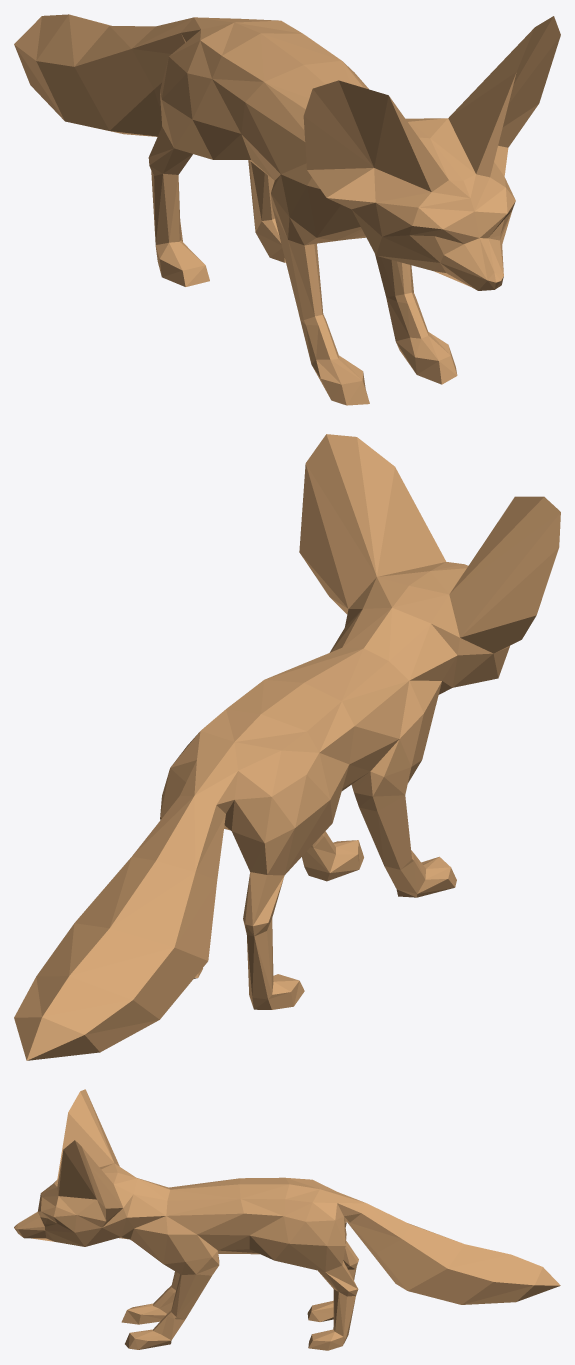
File: veryperfectfoxcolourdae.dae
The picture shows the model from 3 angles, top to bottom: view 1: azimuth 30°, elevation 25°; view 2: azimuth 150°, elevation 25°; view 3: azimuth 270°, elevation 25°; orthographic projection. The views are drawn at different scales.
Visible parts, largest first — view 1: obj_0; view 2: obj_0; view 3: obj_0.
Part boxes in pixels (bbox=[...]): obj_0: bbox=[14, 14, 560, 405]; obj_0: bbox=[14, 434, 560, 1060]; obj_0: bbox=[14, 1089, 560, 1350].
Size of the model in its own units: 0.7525 by 2.41 by 1.06.
